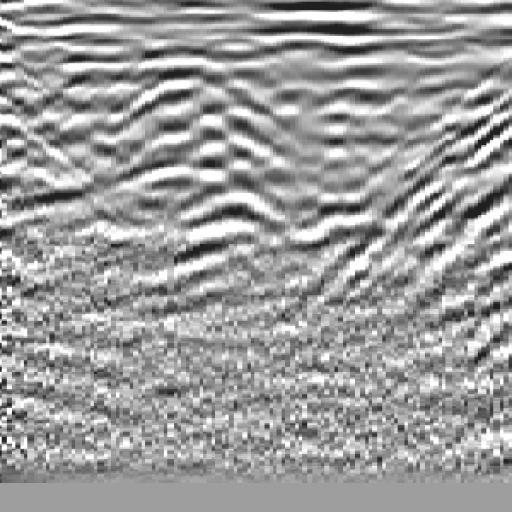metalic: (81, 30, 302, 309)
nonmetalic: (366, 42, 512, 312)
